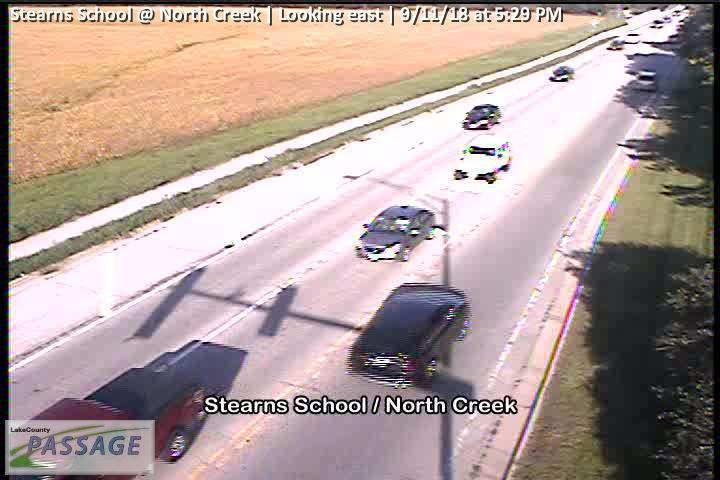SUV: (345, 281, 471, 389), (452, 132, 511, 185), (463, 103, 501, 130), (636, 67, 658, 90)
Sedan: (353, 204, 435, 263), (548, 66, 575, 82)
Truck: (7, 366, 211, 480)
